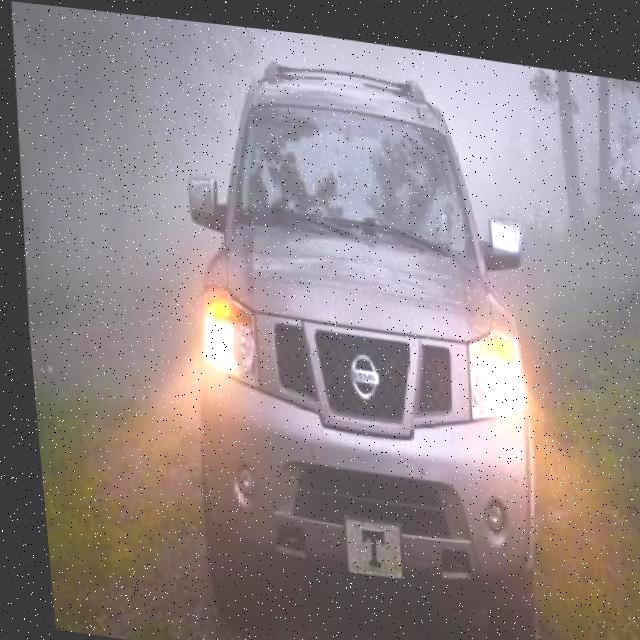license_plate: (332, 506, 396, 574)
